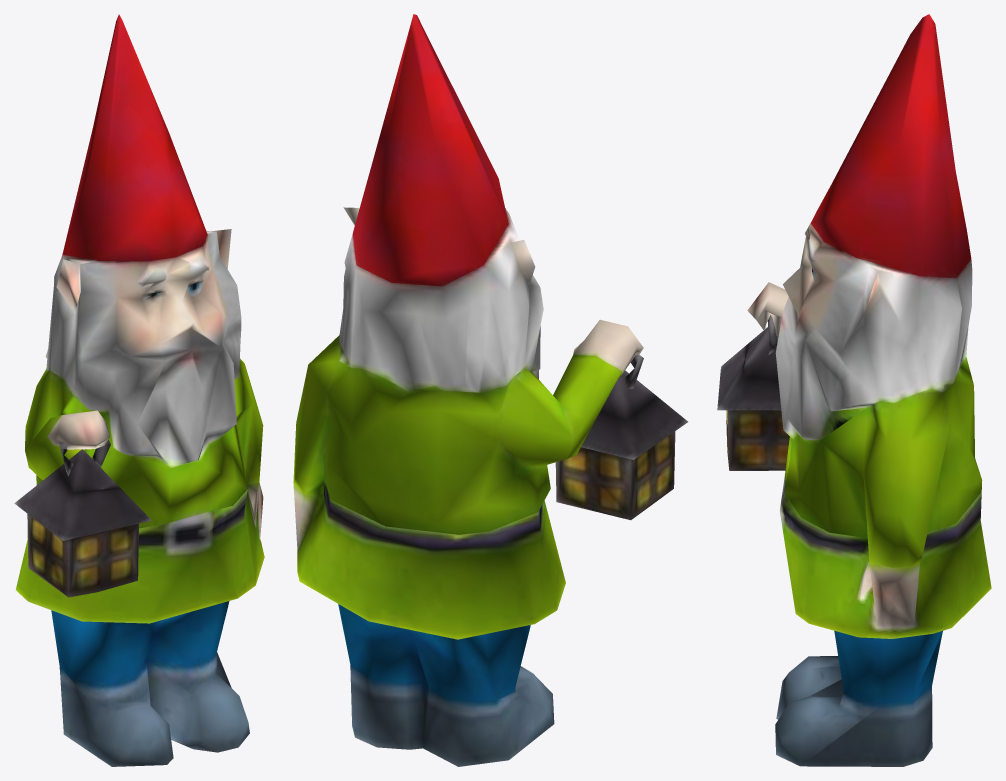
The model's file is gnome.glb.
3 renders of one model, left to right at view 1: azimuth 30°, elevation 25°; view 2: azimuth 150°, elevation 25°; view 3: azimuth 270°, elevation 25°, orthographic. The views are drawn at different scales.
Visible parts, largest first — view 1: garden_gnome; view 2: garden_gnome; view 3: garden_gnome.
Part boxes in pixels (x1,y1,x2,y2): garden_gnome: [14, 14, 264, 766]; garden_gnome: [293, 14, 687, 766]; garden_gnome: [717, 14, 991, 766].
Bounding box in the file's own units: 0.2535 × 0.5985 × 0.2073.
1 material, 1 textured.
